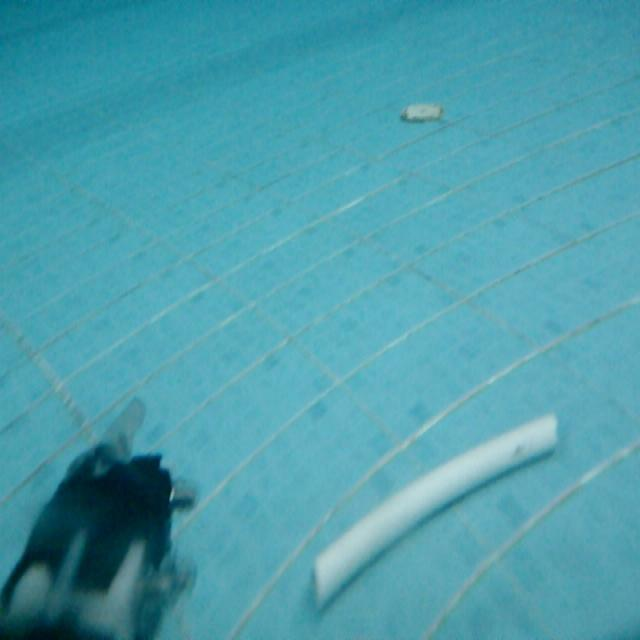Cube: (308, 405, 561, 612)
